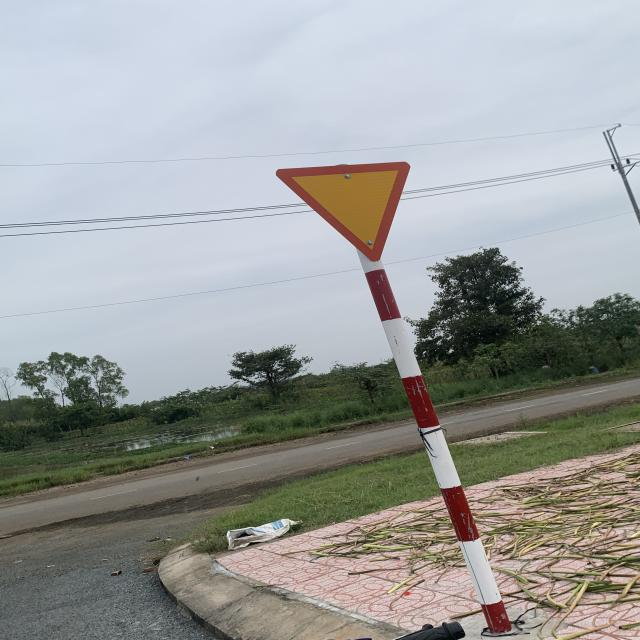Gioi_Han_Toc_Do_25: (274, 162, 408, 264)
